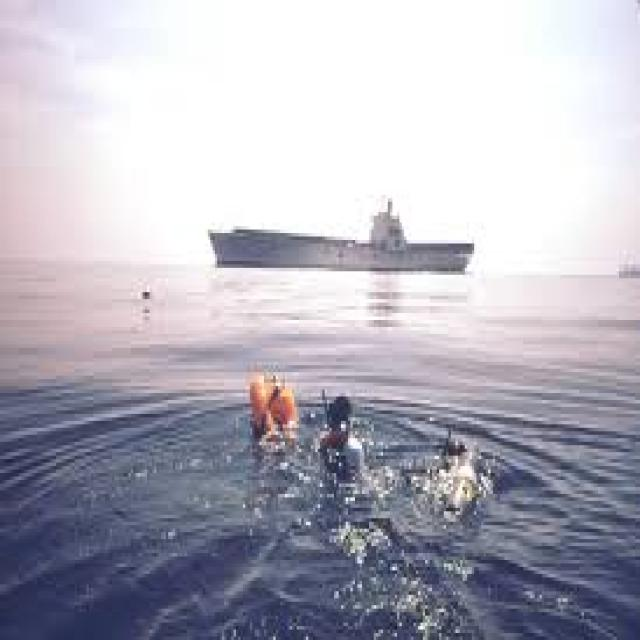navalvessels: (202, 193, 478, 276)
